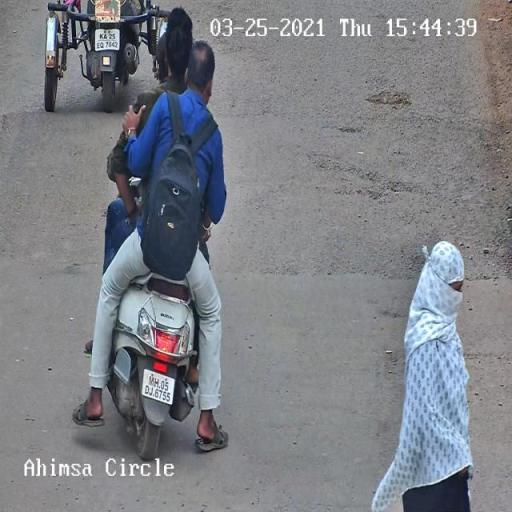tripple riding: (96, 4, 234, 294)
